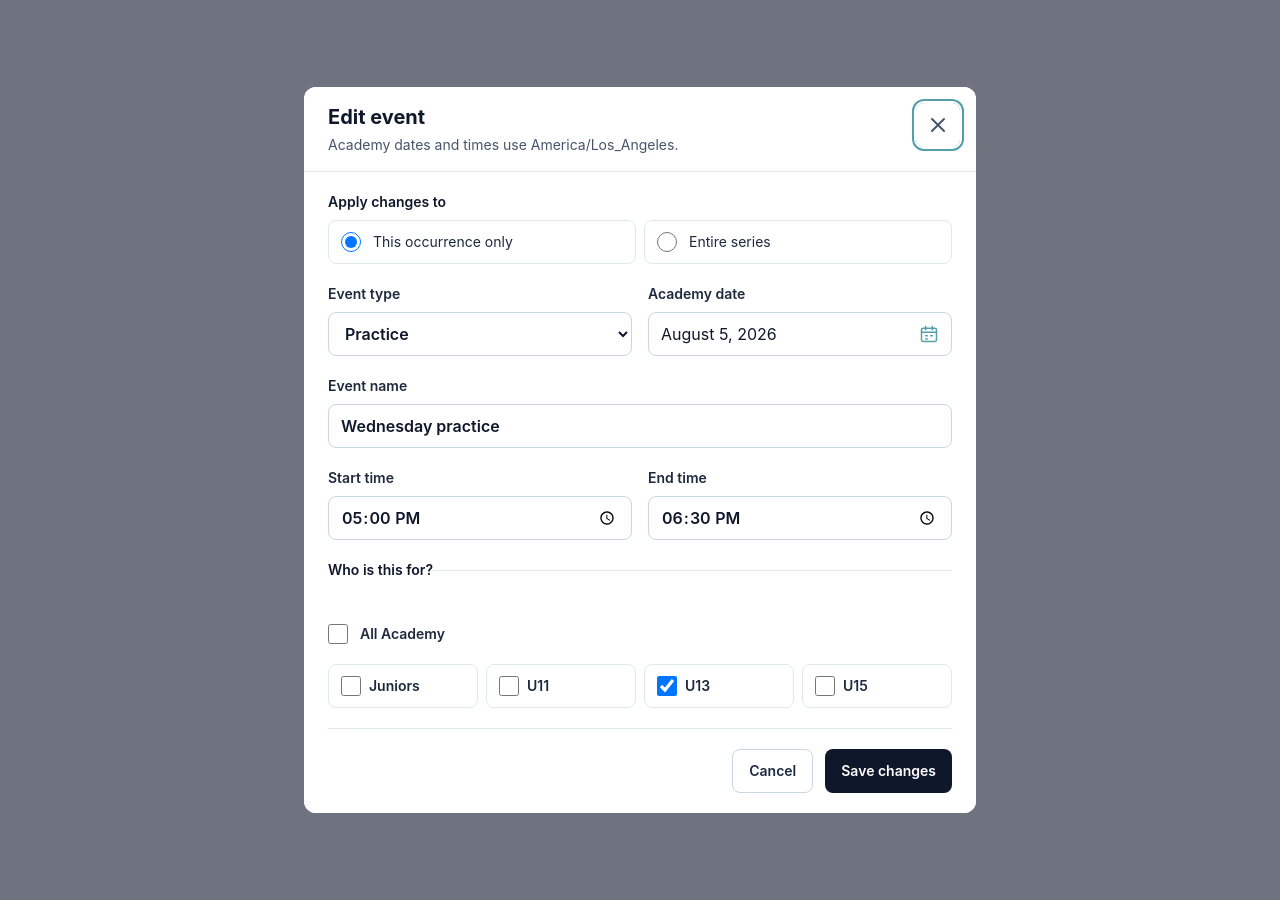
EventFormModal › offers one explicit reload after a conflict without retrying the mutation
Replace the text in the field labelled "Event name" with "Conflicting local edit" at (640, 426), box [328,404,952,448]
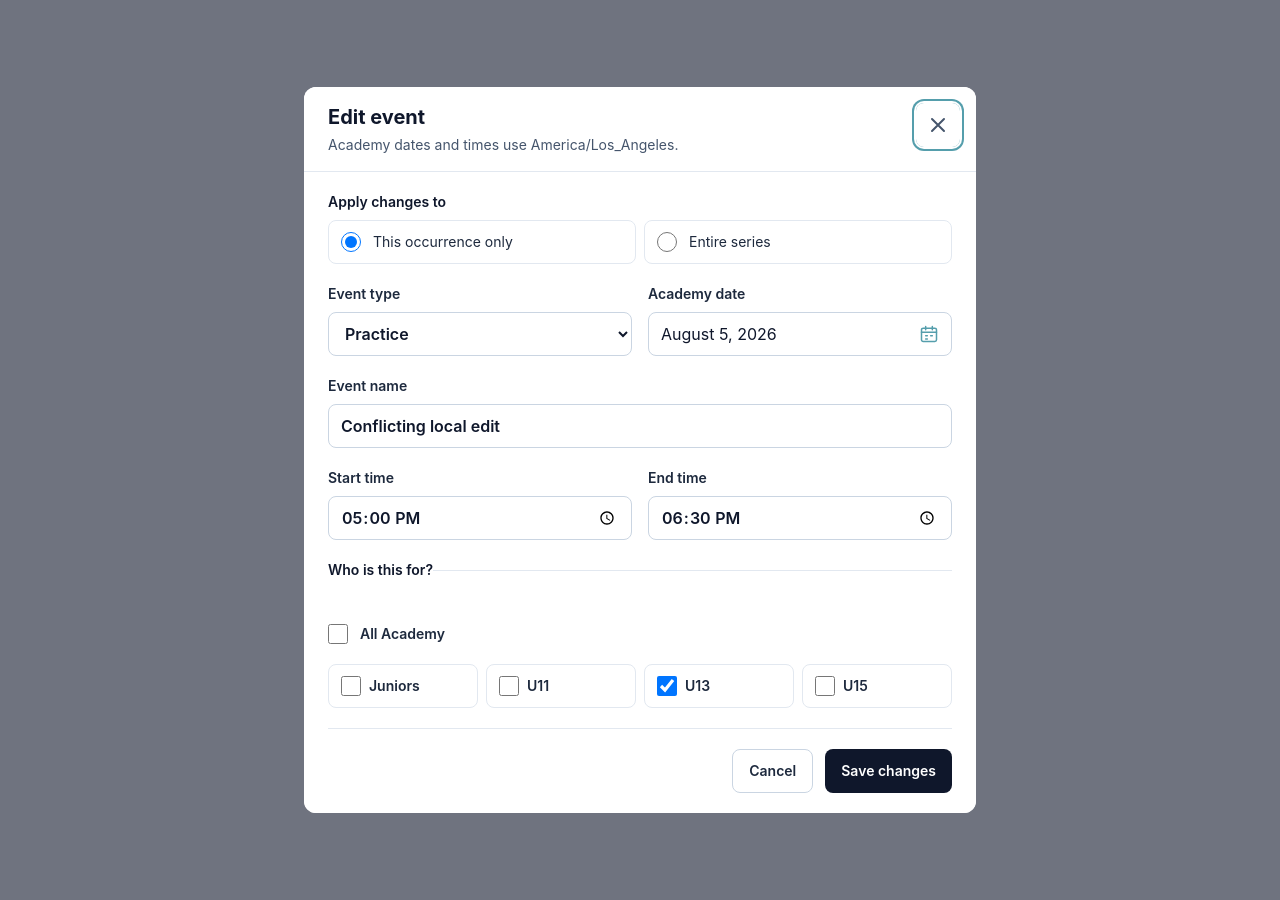
Click the button "Save changes" at (889, 771), box [825,749,952,793]
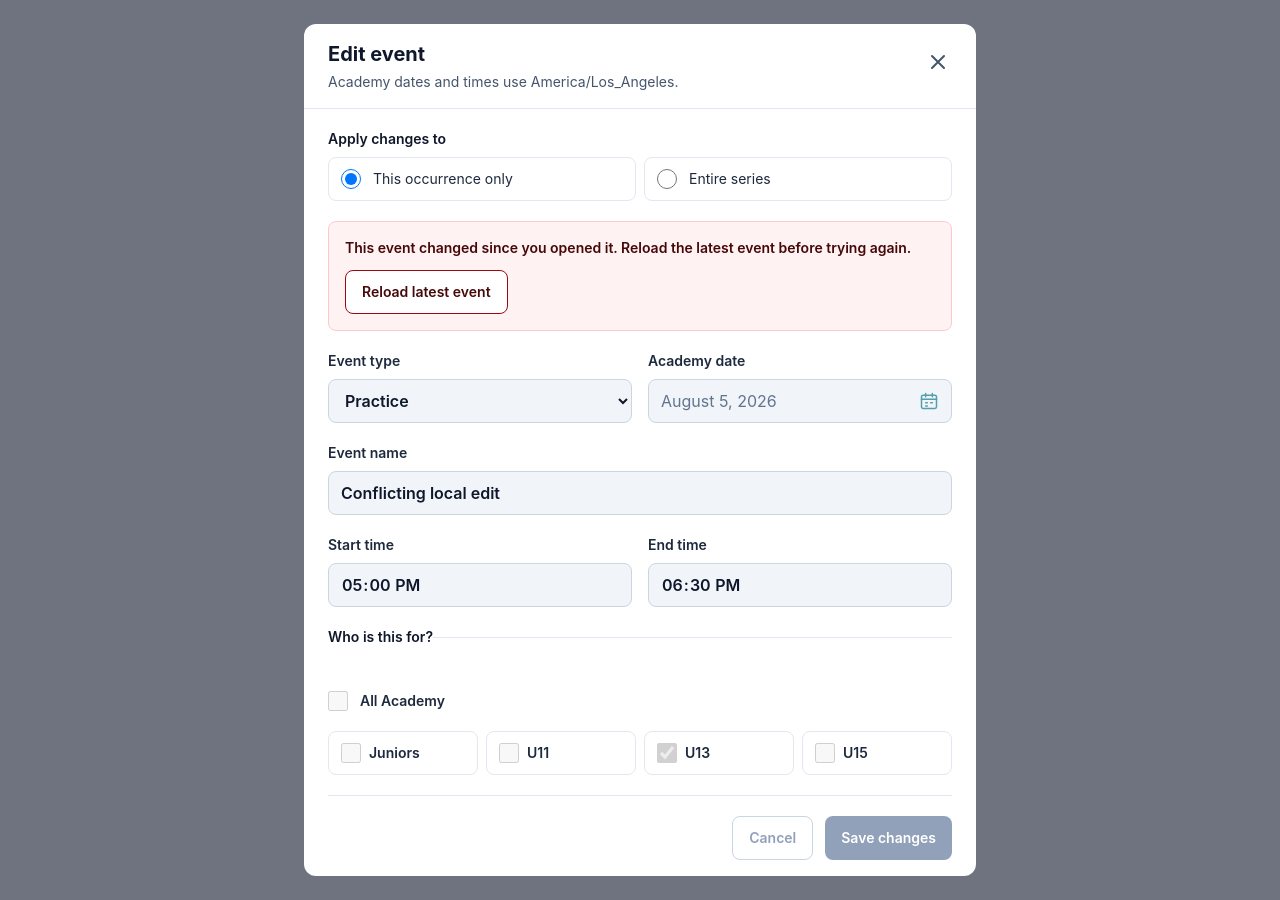
Check: the message does not show "raw stale", box [328,221,952,331]
Click the button "Reload latest event" at (426, 292), box [345,270,508,314]
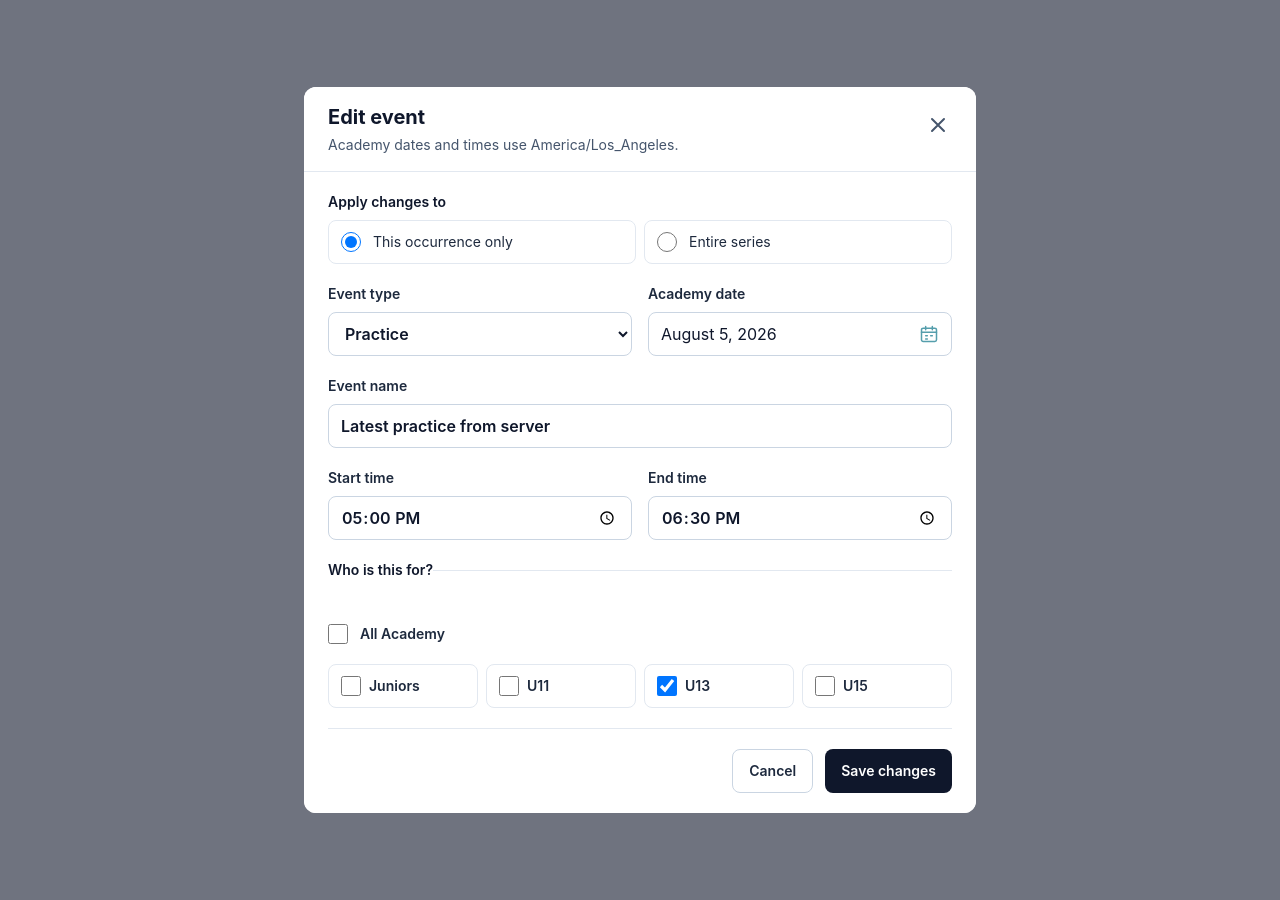
Check: the field labelled "Event name" holds "Latest practice from server", box [328,404,952,448]
